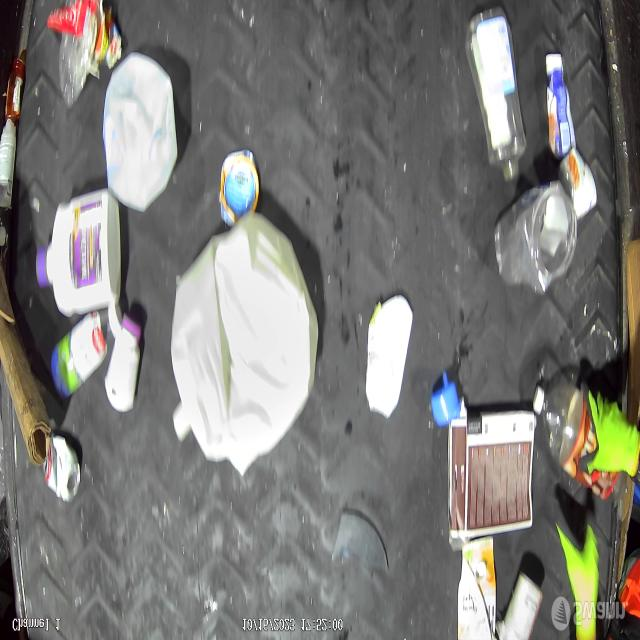can: (219, 148, 260, 226), (43, 434, 81, 501)
milk_jug: (170, 212, 320, 476), (102, 50, 178, 214)
plastic_bottle: (464, 5, 526, 185), (535, 381, 593, 482)
